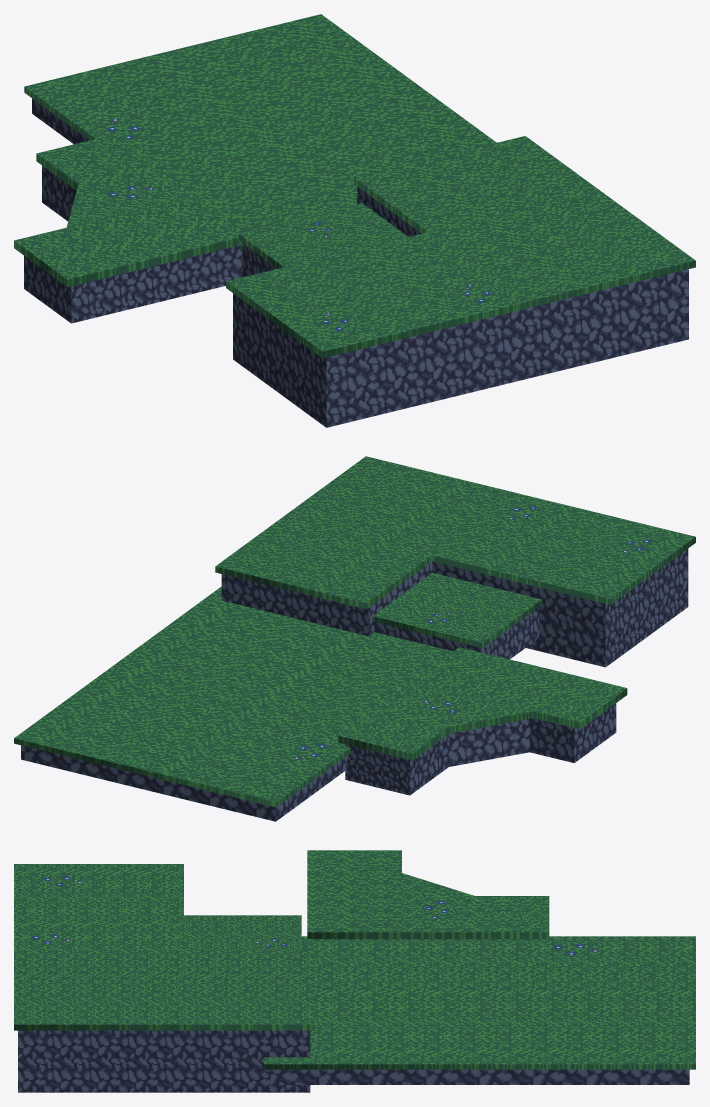
Rendered from Labirinto2.fbx.
3 renders of one model, top to bottom at view 1: azimuth 30°, elevation 25°; view 2: azimuth 150°, elevation 25°; view 3: azimuth 270°, elevation 25°, orthographic. The views are drawn at different scales.
Parts seen in each view (by area): view 1: Labirinto2; view 2: Labirinto2; view 3: Labirinto2.
Boxes of the visible parts, x1,y1,x2,y2 form: Labirinto2: (14, 14, 695, 427); Labirinto2: (14, 456, 695, 821); Labirinto2: (14, 850, 695, 1092).
Bounding box in the file's own units: 5217 × 7370 × 834.
